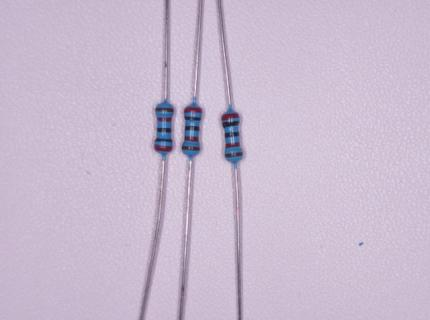Black band: (223, 121, 239, 128), (225, 131, 239, 137), (157, 128, 172, 133), (185, 126, 199, 131), (155, 138, 172, 142), (184, 116, 201, 120)
Brown band: (225, 152, 243, 158), (182, 146, 200, 151), (155, 107, 174, 111)
Red band: (221, 112, 239, 121), (155, 144, 173, 151), (184, 107, 203, 113), (226, 142, 241, 149), (185, 136, 199, 141), (157, 117, 171, 121)
